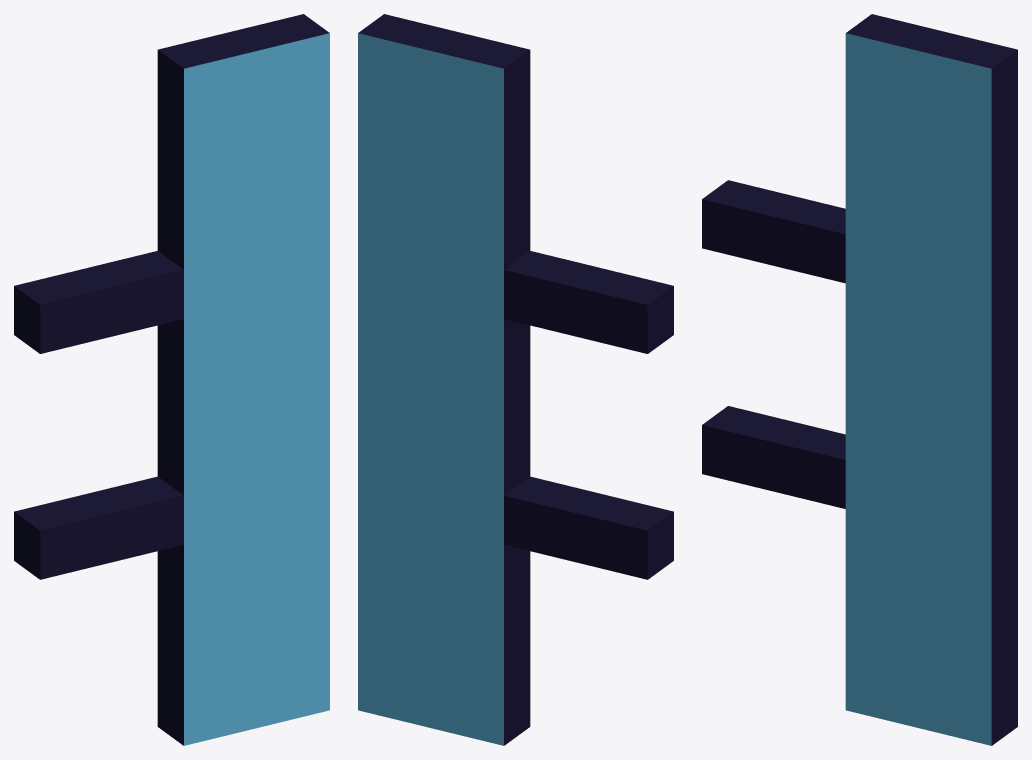
The model's file is BuildBoard2.fbx.
3 views of the same model, side by side, from view 1: azimuth 30°, elevation 25°; view 2: azimuth 150°, elevation 25°; view 3: azimuth 330°, elevation 25° (orthographic).
Visible parts, largest first — view 1: BuildboardSide; view 2: BuildboardSide; view 3: BuildboardSide.
Boxes of the visible parts, bbox=[...] form: BuildboardSide: bbox=[14, 14, 329, 745]; BuildboardSide: bbox=[358, 14, 673, 745]; BuildboardSide: bbox=[702, 14, 1017, 745].
Bounding box in the file's own units: 70 × 156 × 10.94.
